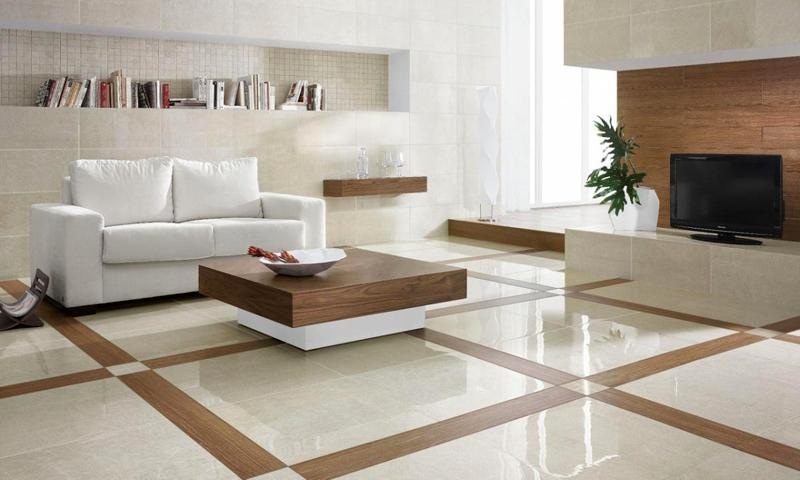chair: (31, 156, 328, 297)
